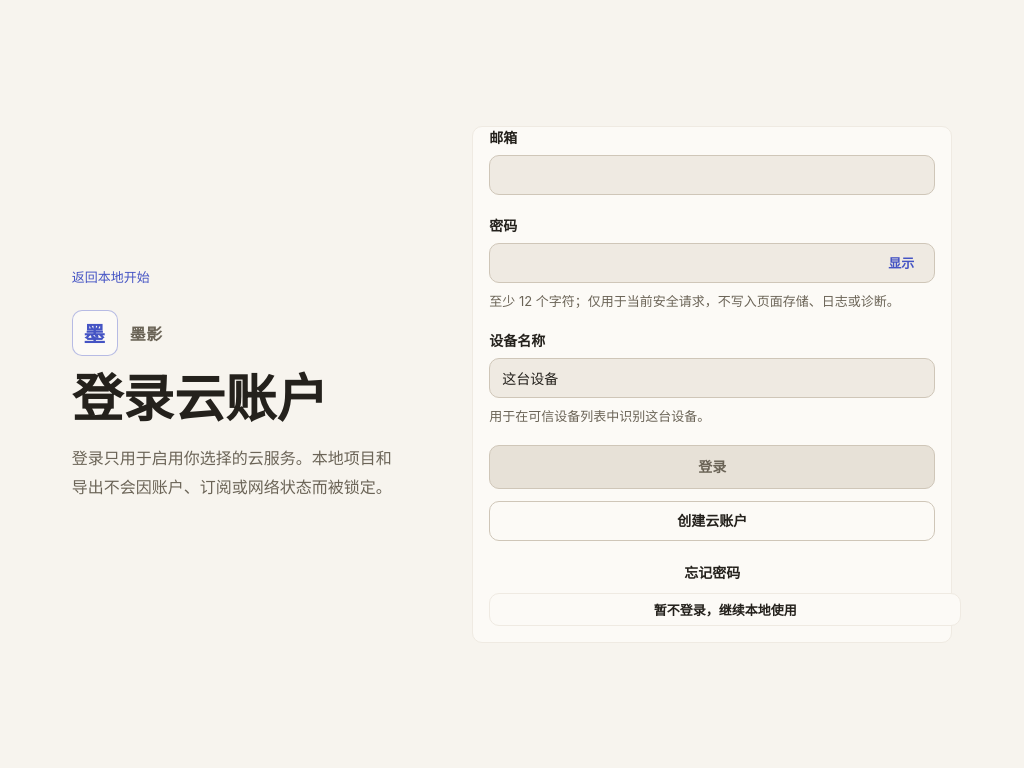
it: cloud login route › blocks both local-navigation links while native login is in flight
The width and height of the screenshot is (1024, 768).
Expected: the heading "登录云账户" is shown, [72,372,328,428]
Type "writer@example.test" into the field labelled "邮箱" at (712, 174), box [502,156,922,194]
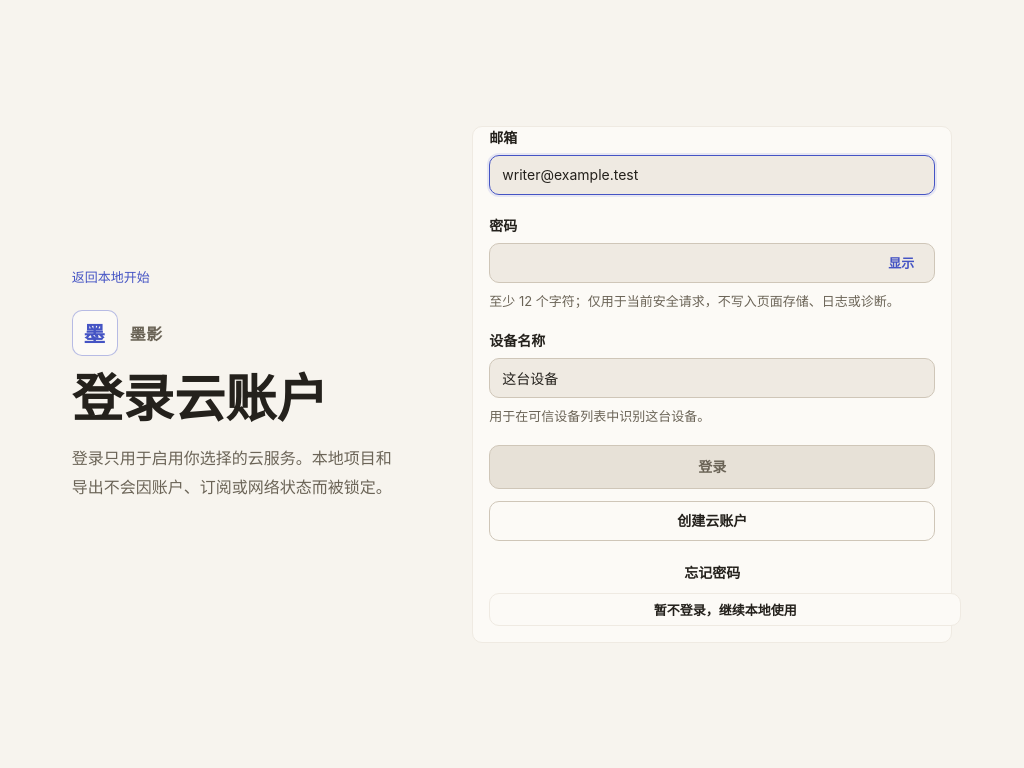
Type "test-password" into the password field labelled "密码" at (687, 262), box [502,244,872,282]
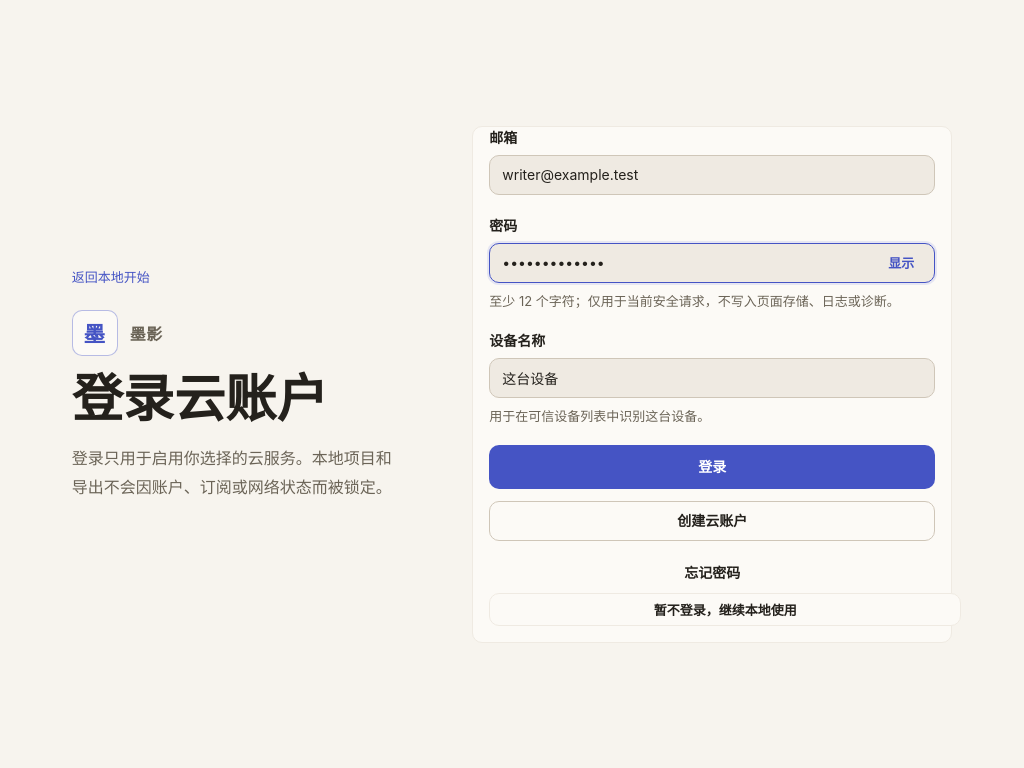
Click the button "登录" at (712, 466), box [489,444,935,488]
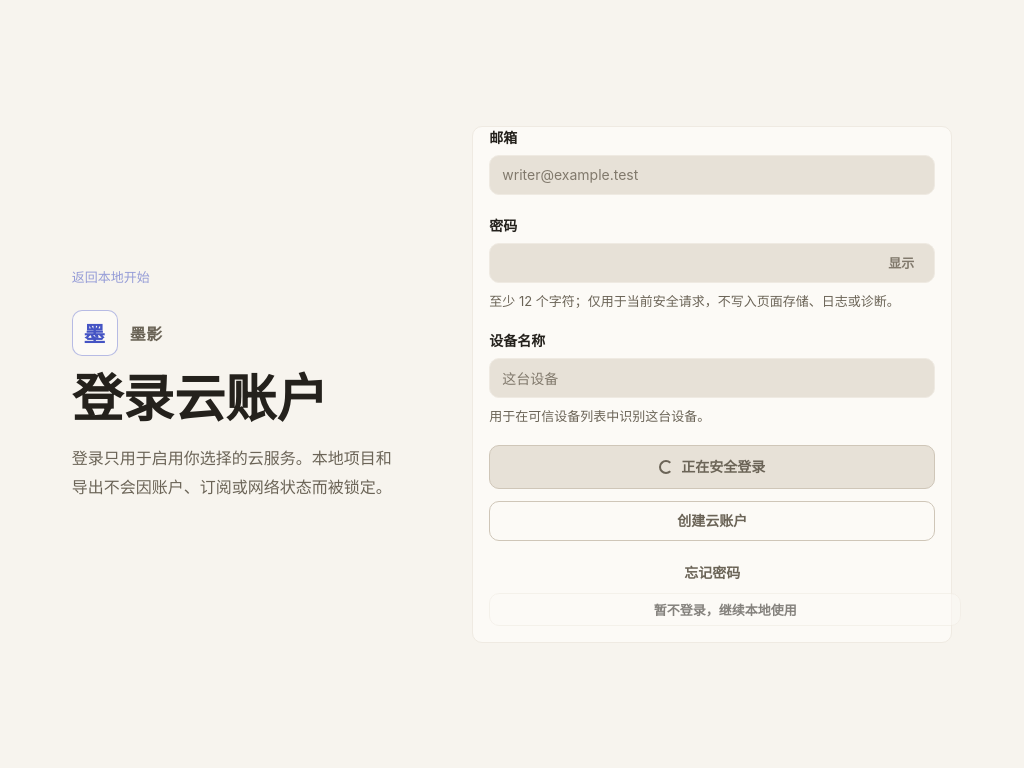
Now the link "返回本地开始" is disabled
Now the link "暂不登录，继续本地使用" is disabled, box [489,592,961,626]
Click the link "返回本地开始" at (111, 276), box [72,266,150,286]
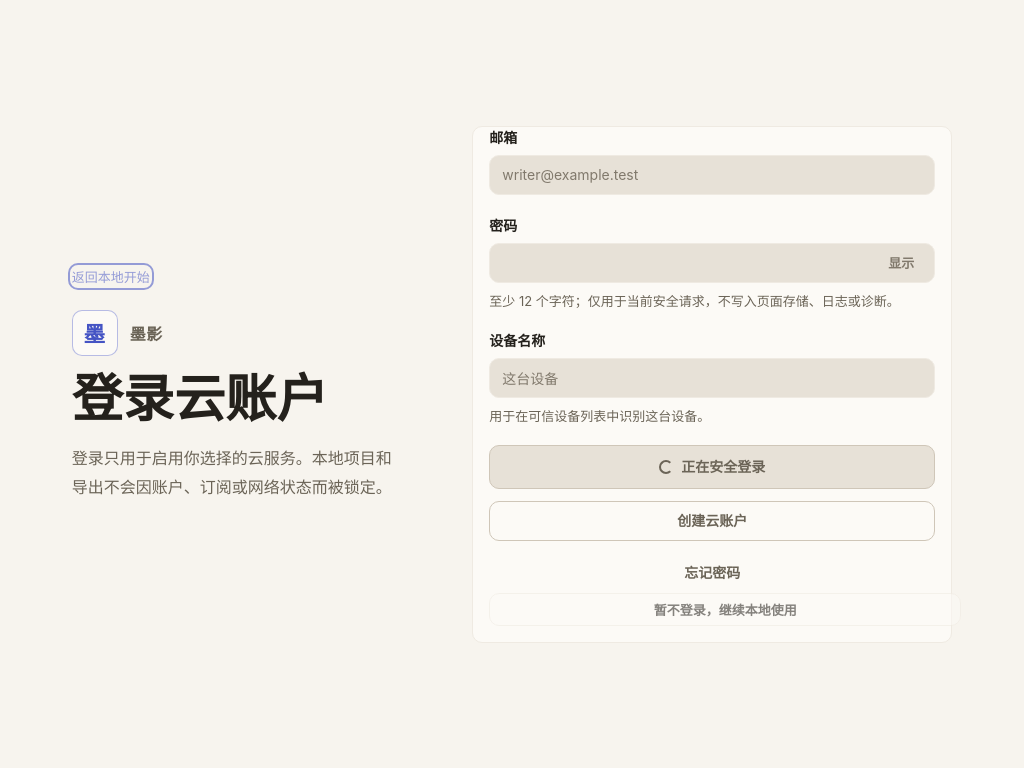
Click the link "暂不登录，继续本地使用" at (725, 609), box [489,592,961,626]
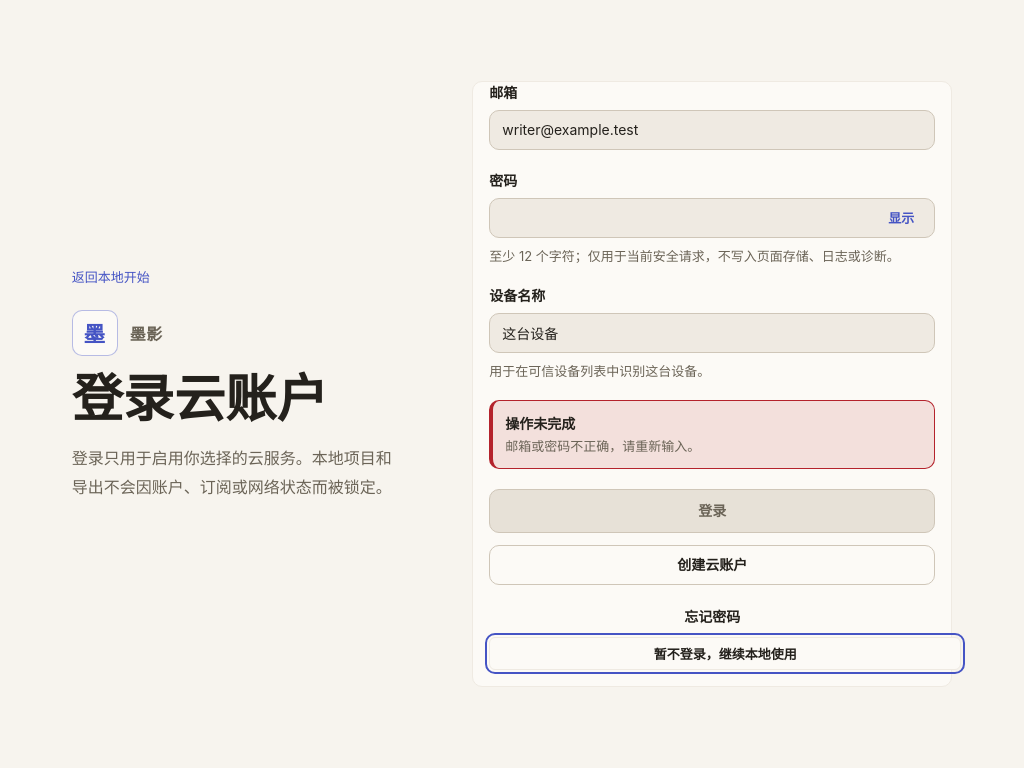
Expected: the heading "登录云账户" is shown, [72,372,328,428]
Now the text "邮箱或密码不正确，请重新输入。" is shown, box [505,438,700,454]
